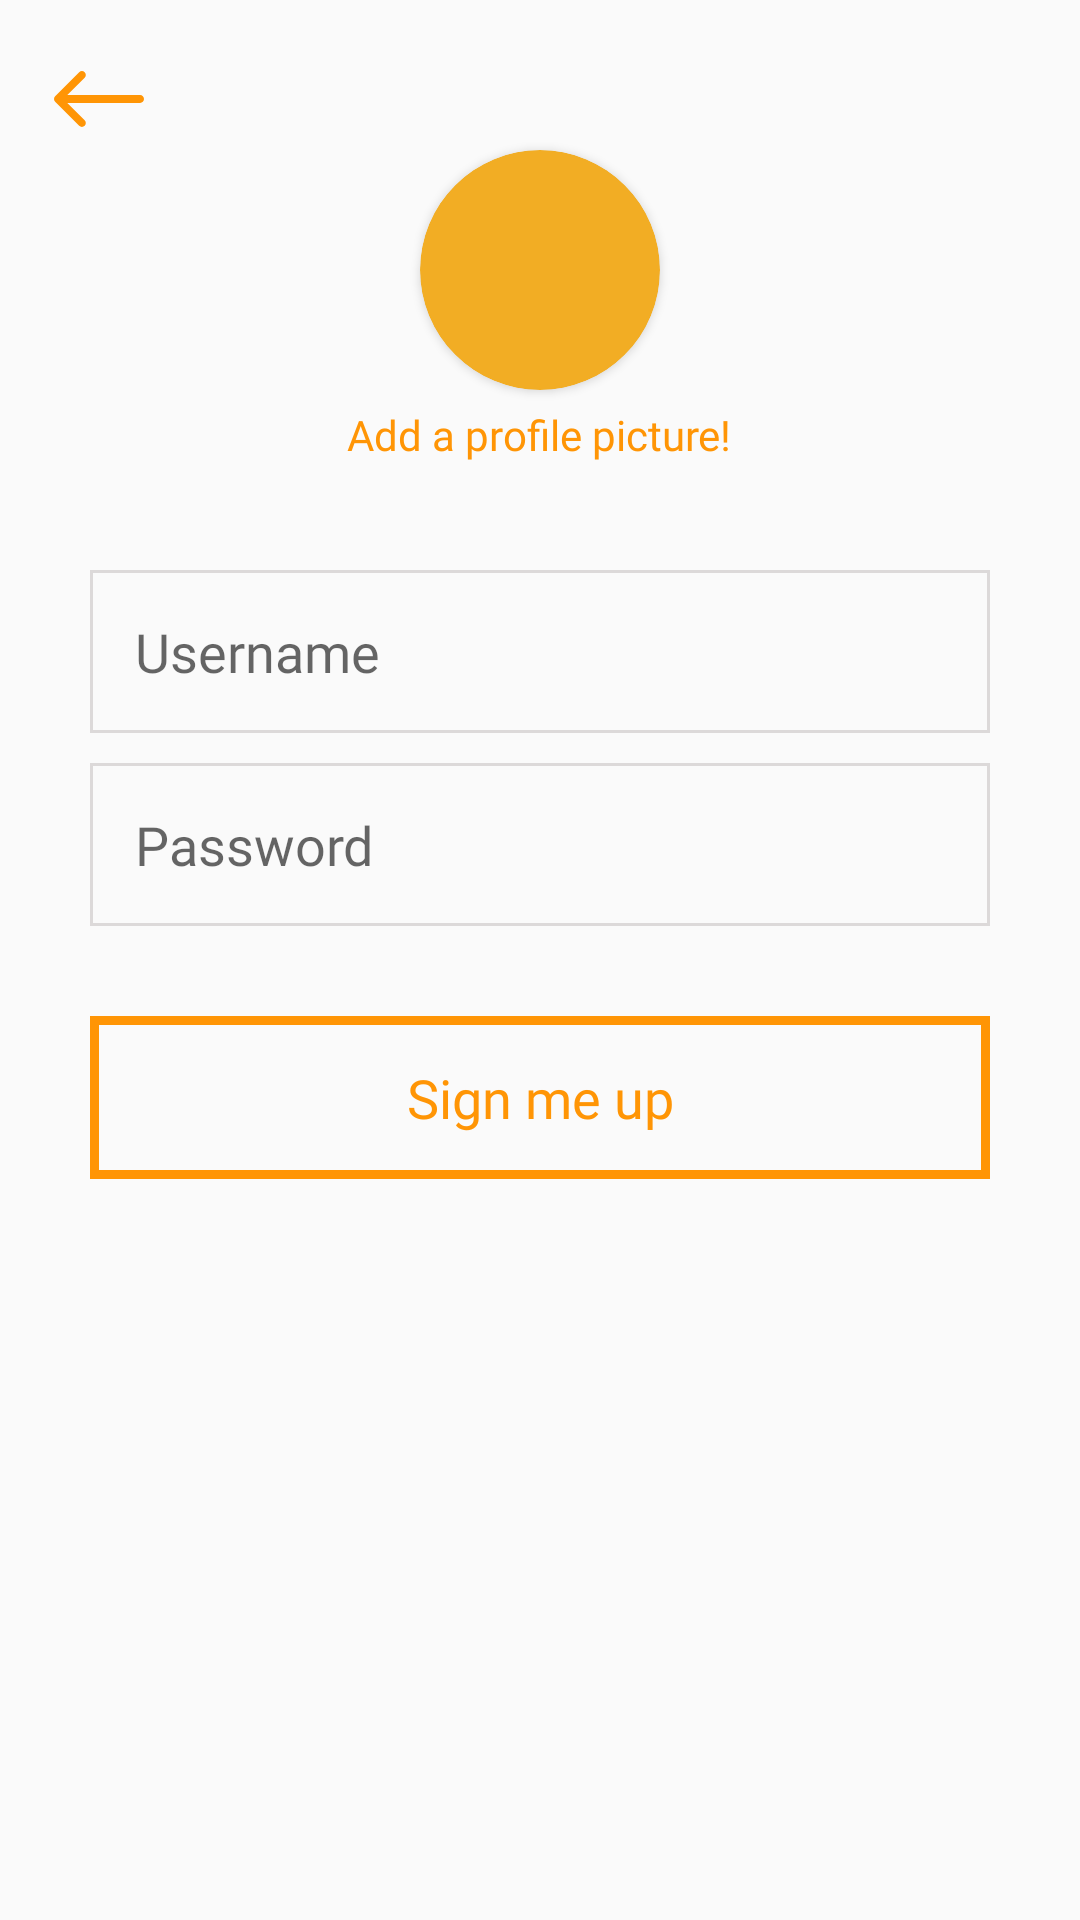

Icons on this 1080px×1920px Android screen, each with the point to tap as (x=x, y=y):
left arrow: (x=99, y=99)
